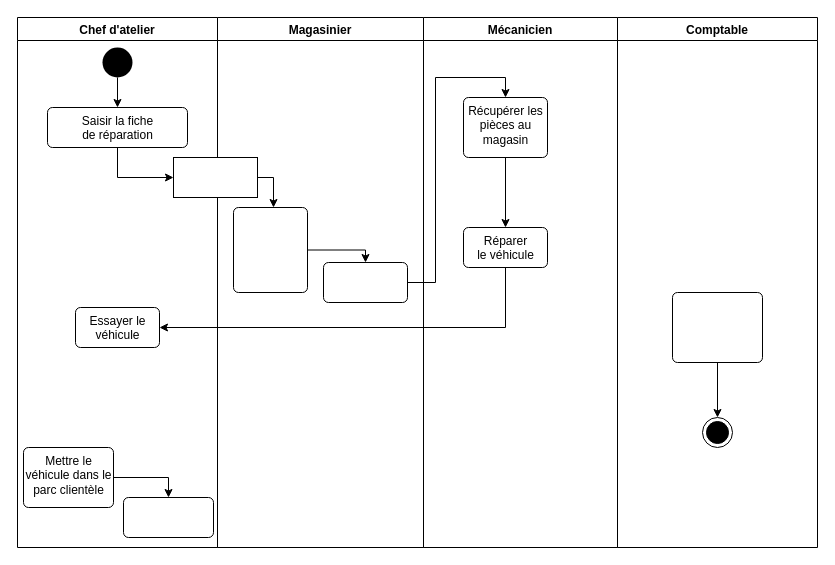
Image size: 835x565. Some labels were removed from this diagram. Here are the shapes that lost their labels. From the top down, the centre of each, then its label:
At point 215,177: "Fiche de réparation".
At point 270,249: "Saisir les pièces fournies depuis le terminal".
At point 365,282: "Fournir les pièces".
At point 717,327: "Importer la fiche bouclée dans le logiciel comptable".
At point 168,517: "Boucler la fiche de réparation".
